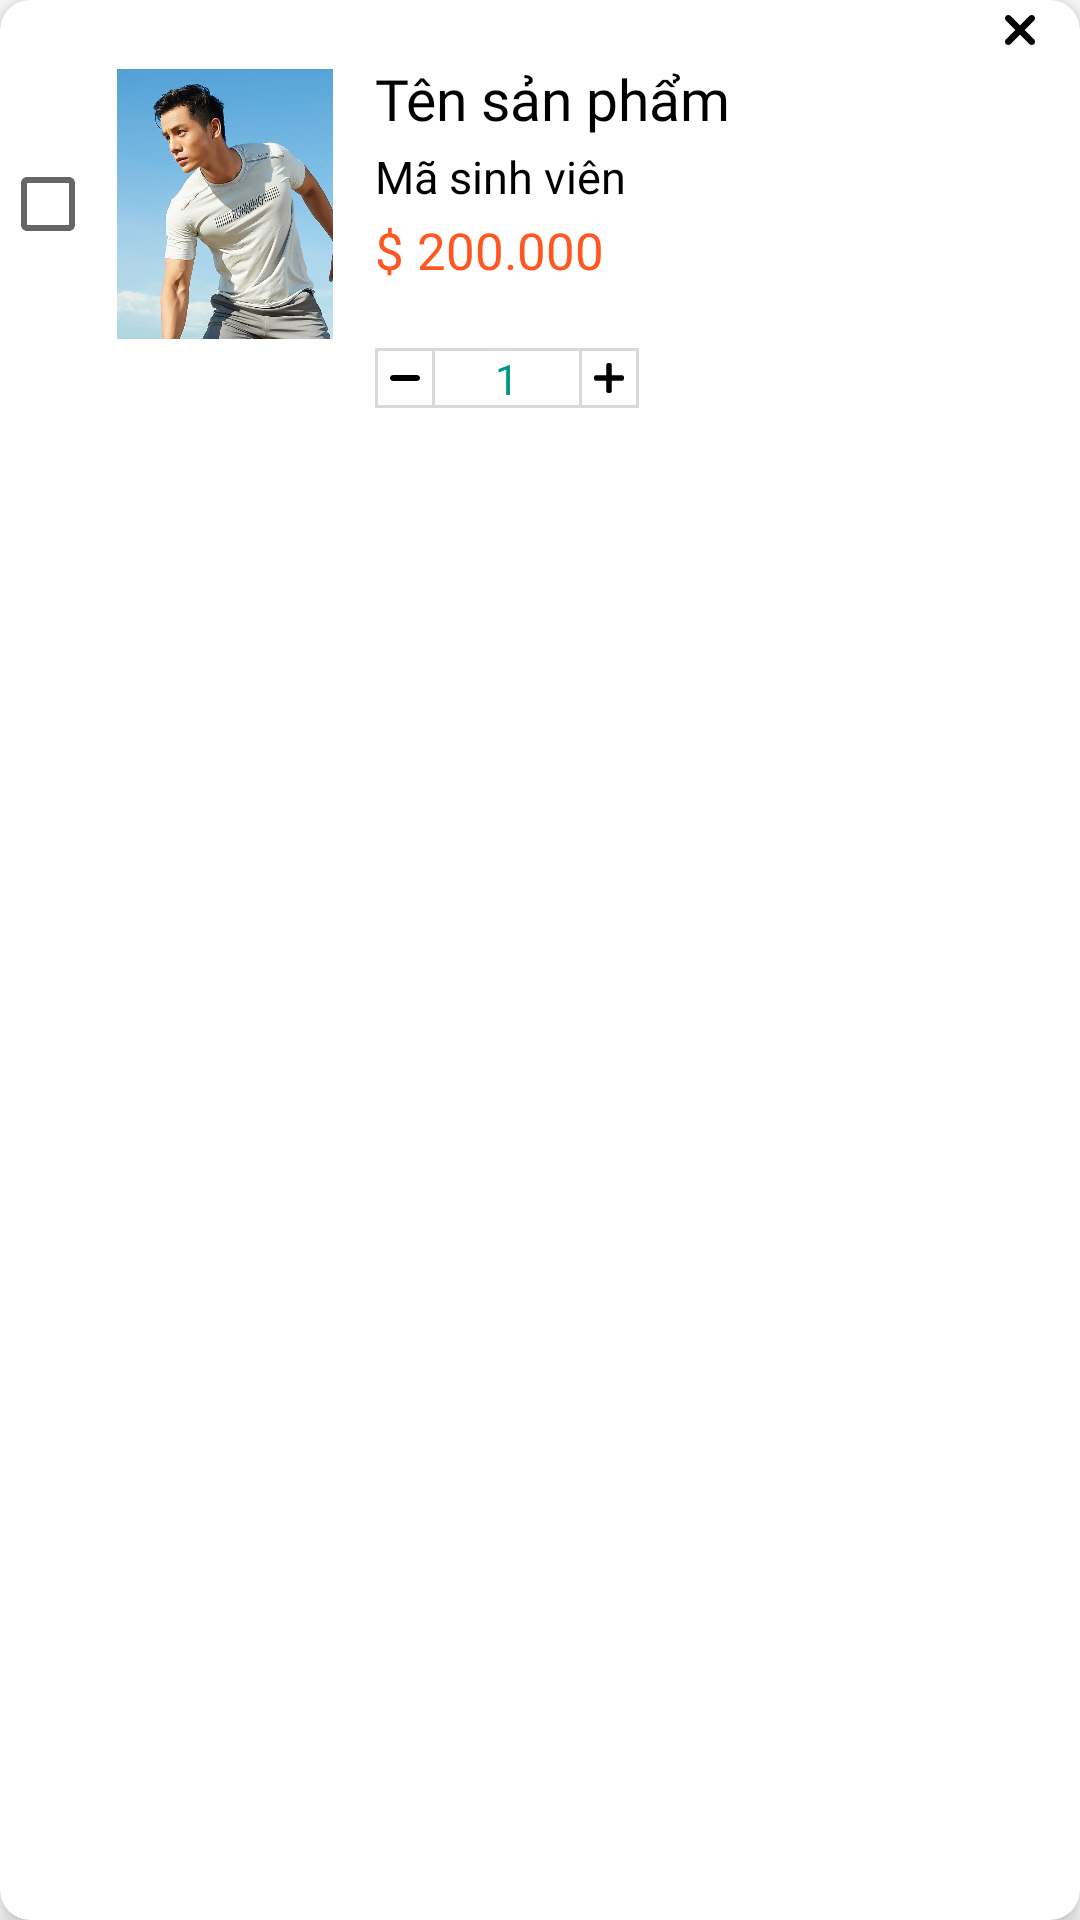

Point at icon controls on the screen. Image size 1080px x 1920px, points as (x,y).
anhspdemo: (225,204)
clear: (1020,30)
minus: (405,378)
plus: (609,378)
